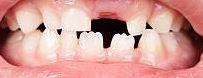Hypodontia: (90, 17, 131, 36)
